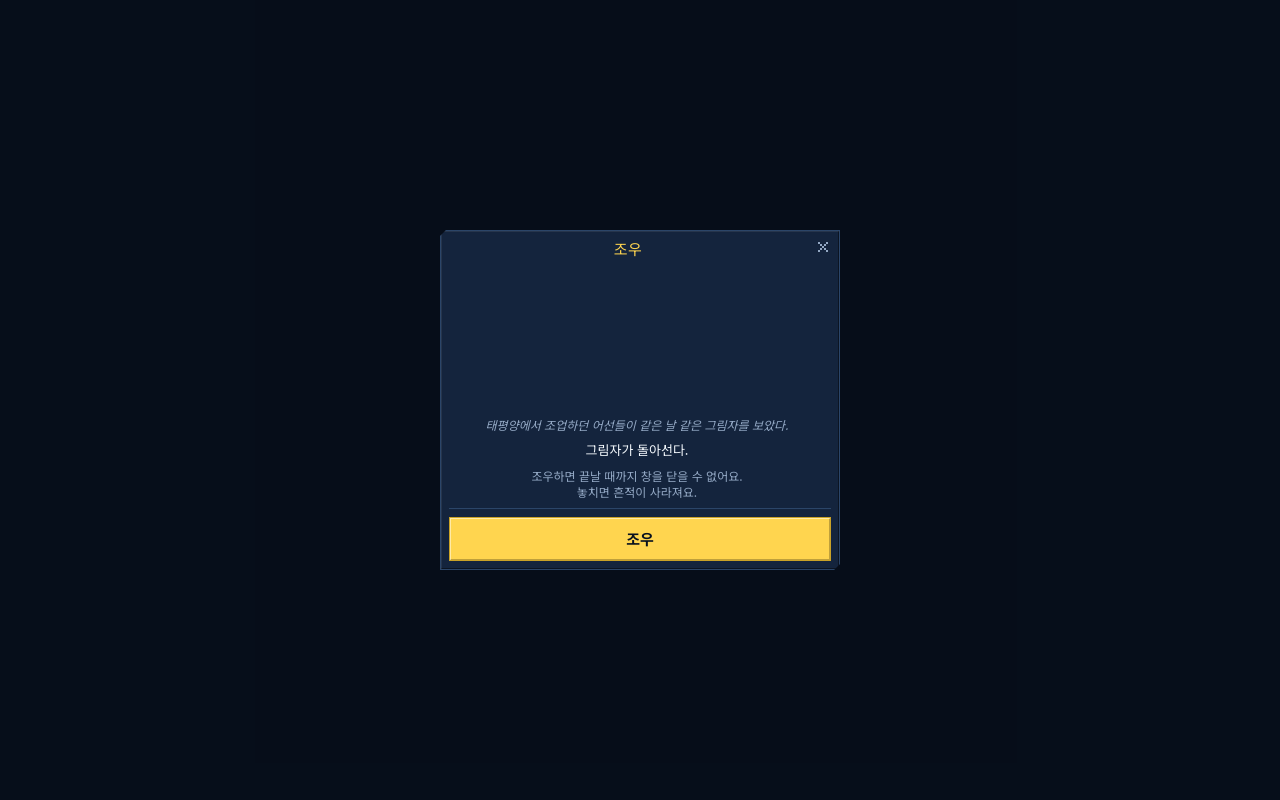
it: EncounterModal › 승부 중에는 닫기 X·Esc가 없다 — 도망으로 흔적을 지키지 못한다
Later steps or results of the test are not shown.
Click the button "조우". click: (640, 539)
box: 449,517 -> 831,561
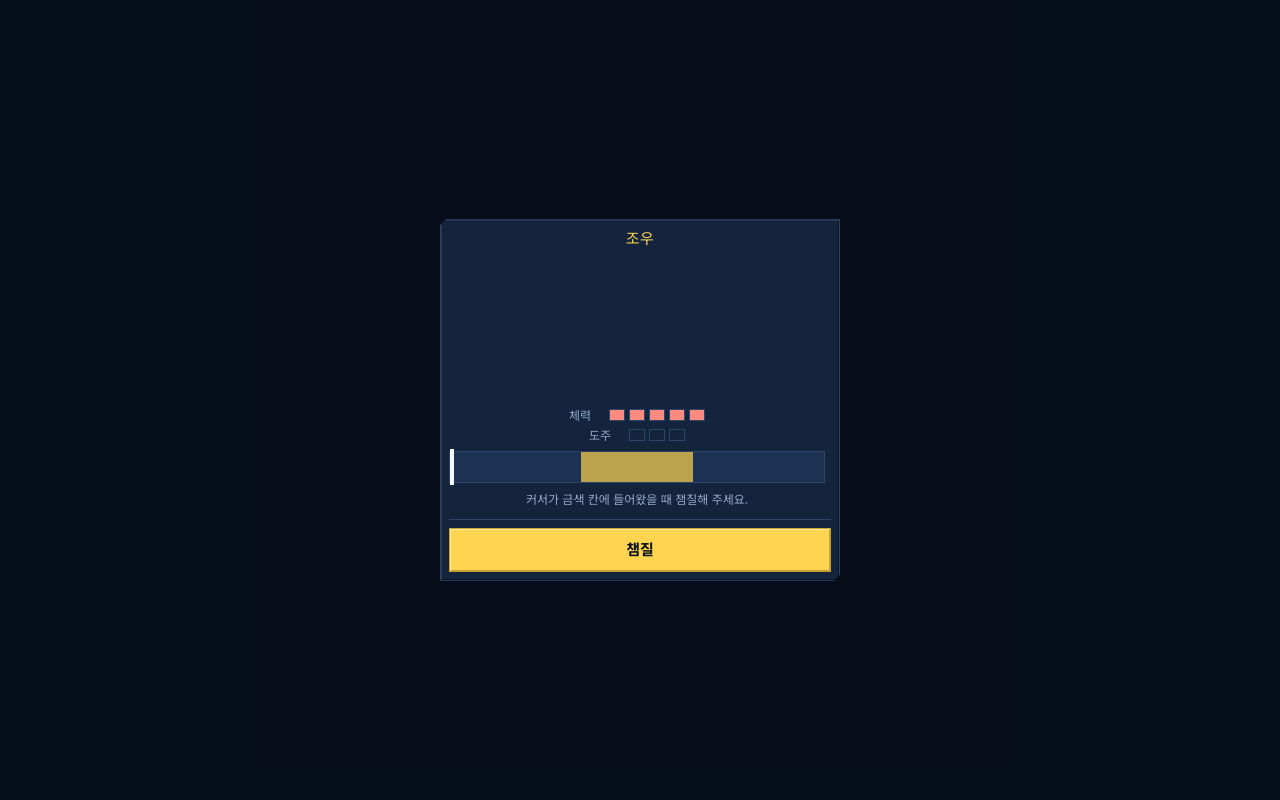
Check: the button "닫기" is gone
